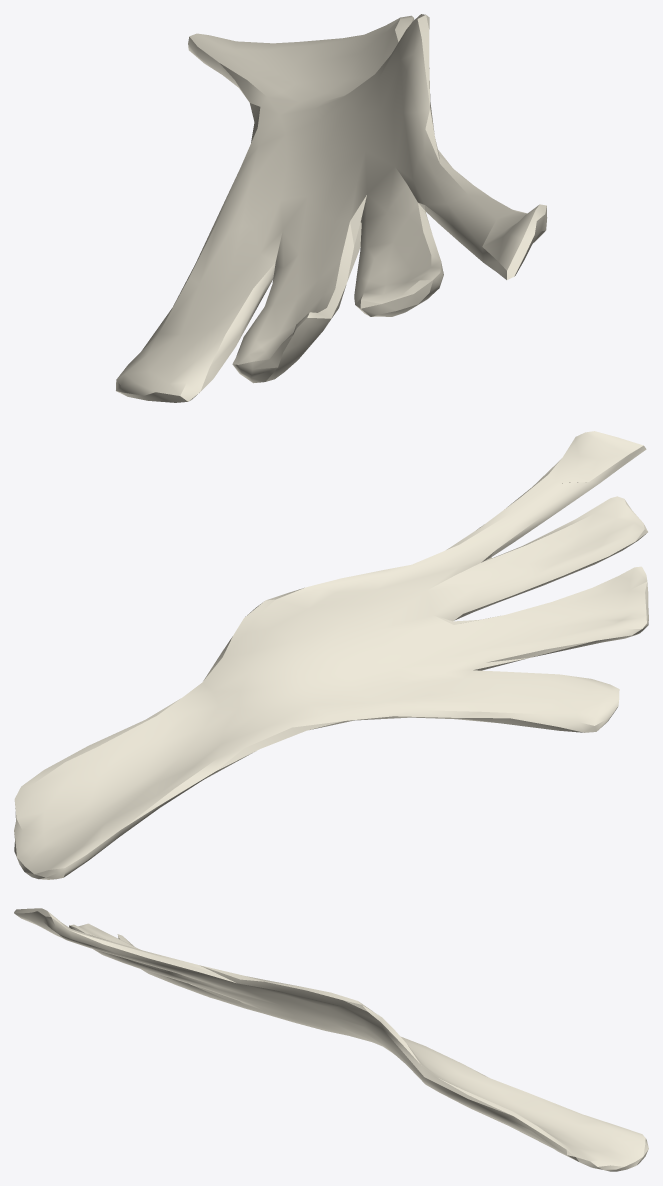
File: fma44249_mm1381m.glb
3 renders of one model, top to bottom at view 1: azimuth 30°, elevation 25°; view 2: azimuth 150°, elevation 25°; view 3: azimuth 270°, elevation 25°, orthographic. The views are drawn at different scales.
Visible parts, largest first — view 1: FMA44249_MM1381M; view 2: FMA44249_MM1381M; view 3: FMA44249_MM1381M.
Boxes of the visible parts, x1,y1,x2,y2 form: FMA44249_MM1381M: (116, 14, 547, 402); FMA44249_MM1381M: (14, 431, 648, 879); FMA44249_MM1381M: (14, 908, 648, 1171).
Bounding box in the file's own units: 0.0513 × 0.0285 × 0.0908.
